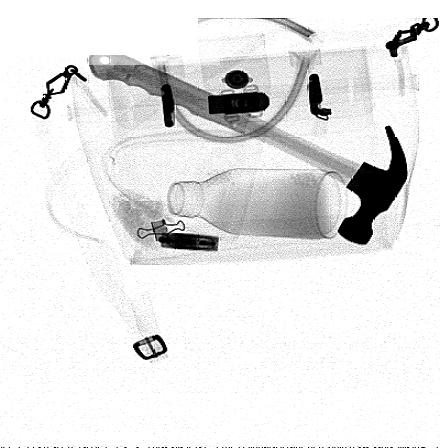Hammer: (86, 54, 409, 246)
